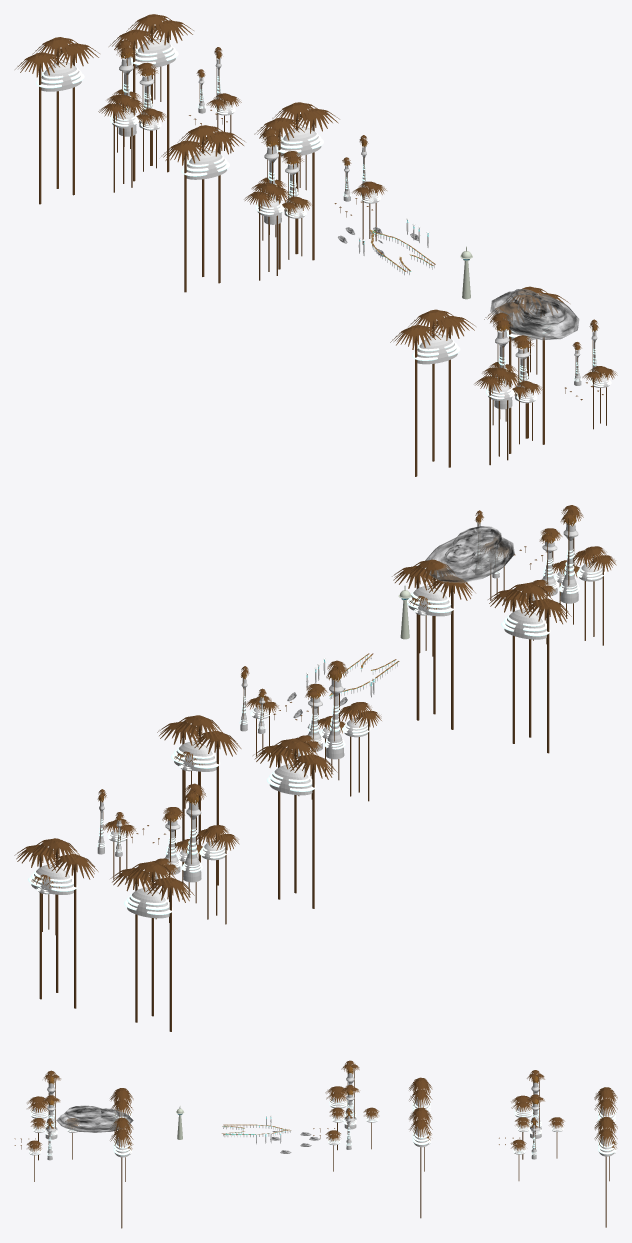
File: Coordlux.glb
3 views of the same model, one above another, from view 1: azimuth 30°, elevation 25°; view 2: azimuth 150°, elevation 25°; view 3: azimuth 270°, elevation 25° (orthographic). The views are drawn at different scales.
Parts seen in each view (by area): view 1: Cloud21, Sphere11, Sphere44, Sphere22, Sphere12, Sphere23; view 2: Cloud21, Sphere44, Sphere11, Sphere14, Sphere22, Sphere3, Sphere36, Sphere23, Sphere12, Sphere45; view 3: Cloud21.
Boxes of the visible parts, x1,y1,x2,y2 form: Cloud21: (490,289,579,340); Sphere11: (41,62,81,91); Sphere44: (417,334,457,364); Sphere22: (186,150,226,179); Sphere12: (135,39,175,68); Sphere23: (280,127,321,156); Cloud21: (425,526,514,583); Sphere44: (504,609,546,639); Sphere11: (127,888,169,918); Sphere14: (326,678,344,759); Sphere22: (269,765,312,795); Sphere3: (183,801,201,882); Sphere36: (560,523,578,603); Sphere23: (174,741,216,771); Sphere12: (31,864,73,894); Sphere45: (408,586,451,616); Cloud21: (56,1105,133,1132).
Size of the model in its own units: 18921 by 21418 by 85600.
92 materials, 35 textured.
